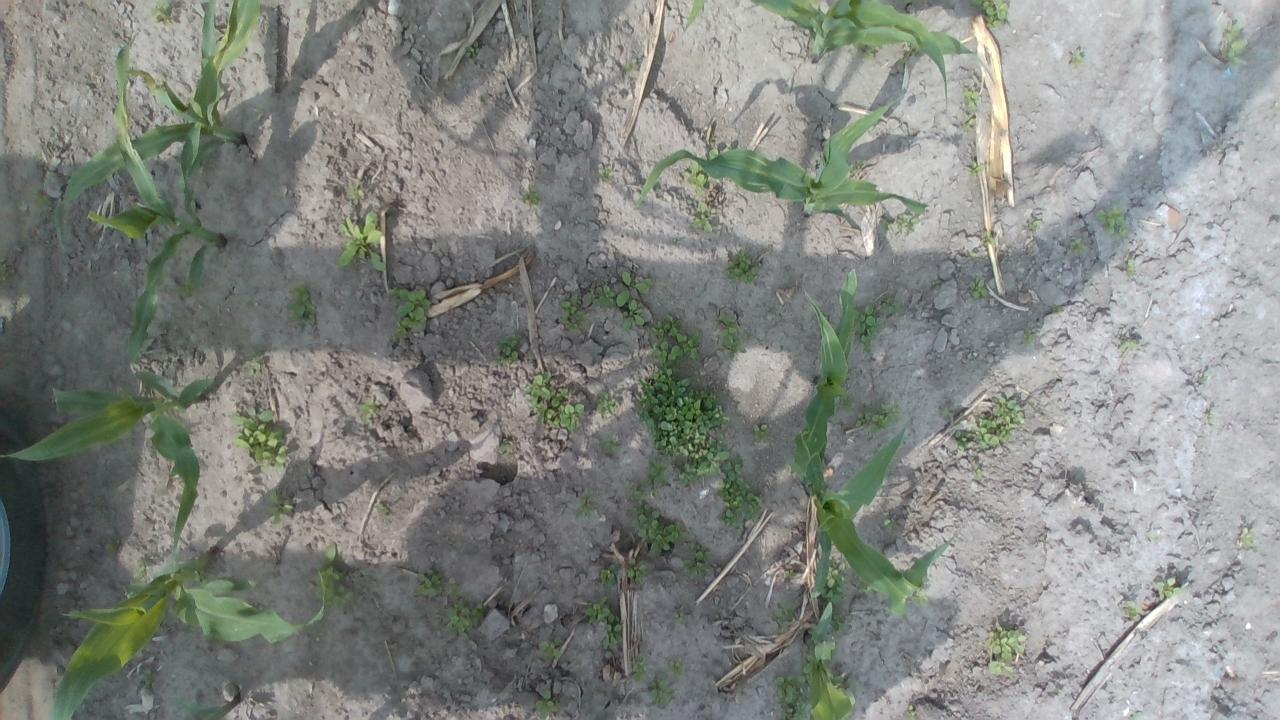Maize: (49, 0, 262, 251), (49, 547, 327, 720), (88, 0, 222, 355), (0, 366, 215, 554), (638, 100, 929, 228), (684, 0, 1006, 96), (785, 433, 951, 615), (802, 266, 862, 468), (792, 599, 854, 720), (160, 691, 242, 720)
Weeds: (635, 365, 731, 485), (230, 406, 289, 473), (524, 371, 584, 431), (714, 458, 764, 529), (333, 209, 387, 272), (852, 291, 901, 353), (631, 500, 687, 554), (312, 541, 353, 611), (971, 396, 1025, 449), (648, 316, 702, 366), (984, 622, 1026, 678), (388, 286, 428, 342), (616, 271, 652, 330), (711, 313, 754, 360), (774, 672, 813, 720), (854, 402, 903, 436), (285, 281, 320, 328), (444, 598, 483, 636), (722, 248, 759, 286), (821, 560, 850, 606), (1217, 22, 1248, 65), (559, 293, 592, 333), (1096, 203, 1130, 241), (969, 0, 1011, 30), (681, 542, 713, 580), (264, 490, 294, 525), (682, 158, 708, 197), (649, 670, 675, 708), (413, 569, 445, 599), (495, 333, 524, 365), (692, 201, 717, 234), (534, 690, 562, 719), (601, 613, 623, 648), (583, 596, 610, 624), (770, 601, 794, 632), (540, 636, 566, 664), (628, 652, 650, 685), (592, 390, 616, 419), (28, 183, 54, 208), (626, 557, 649, 585), (576, 488, 598, 516), (243, 347, 264, 376), (625, 483, 661, 499), (150, 0, 174, 24), (1156, 576, 1178, 602), (592, 285, 616, 308), (358, 398, 381, 422), (895, 213, 920, 235), (854, 42, 884, 60), (132, 557, 154, 580), (801, 636, 814, 674), (347, 180, 366, 206), (598, 434, 622, 454), (600, 564, 618, 590), (961, 86, 979, 112), (834, 675, 860, 692), (897, 41, 918, 62), (970, 276, 990, 298), (522, 184, 542, 204), (0, 254, 14, 282), (1238, 526, 1254, 550), (1066, 48, 1085, 68), (830, 613, 849, 632), (1070, 236, 1088, 255), (836, 393, 854, 412), (752, 423, 770, 442), (954, 430, 970, 451), (464, 40, 480, 60), (960, 112, 976, 132), (1021, 328, 1037, 348), (911, 589, 929, 606), (968, 161, 984, 180), (141, 669, 156, 689), (447, 578, 462, 598), (30, 146, 46, 164), (1026, 216, 1044, 232), (1124, 604, 1140, 622), (1116, 337, 1138, 350), (669, 659, 684, 678), (1124, 258, 1138, 278), (175, 277, 188, 298), (881, 518, 900, 532), (598, 166, 614, 182), (700, 148, 719, 160), (848, 160, 864, 174), (105, 538, 116, 558), (971, 464, 984, 480), (498, 438, 510, 455), (940, 406, 956, 418), (673, 610, 686, 624), (981, 230, 994, 244), (376, 501, 388, 516), (906, 705, 918, 720), (878, 217, 892, 229), (932, 275, 941, 290), (626, 58, 637, 70), (1198, 373, 1208, 386), (966, 250, 980, 259), (785, 569, 796, 579), (1052, 305, 1062, 312), (901, 0, 914, 4), (722, 148, 728, 152)
